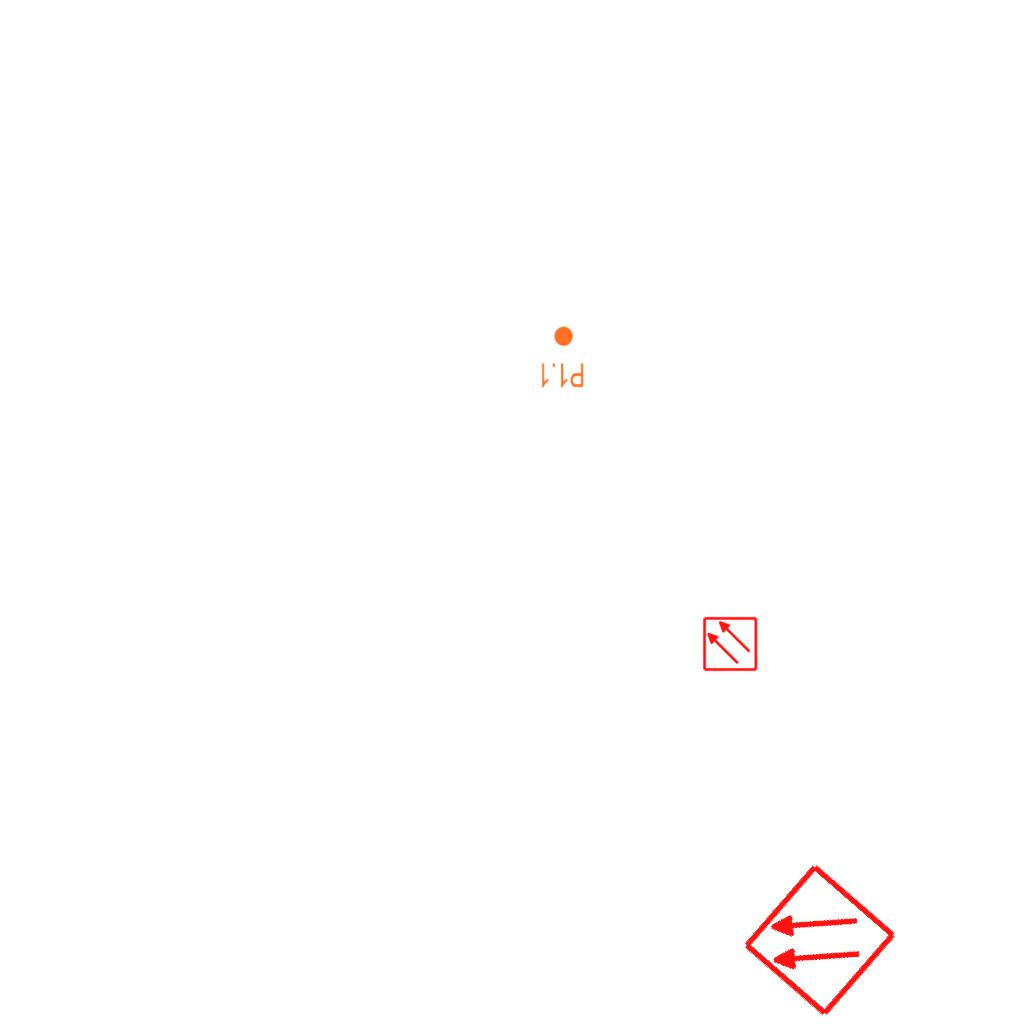Downlight_LED_Einbauleuchten_Flur: (539, 325, 585, 389)
RMO_Rauchmelder_optischer: (739, 860, 900, 1021), (702, 616, 758, 672)
